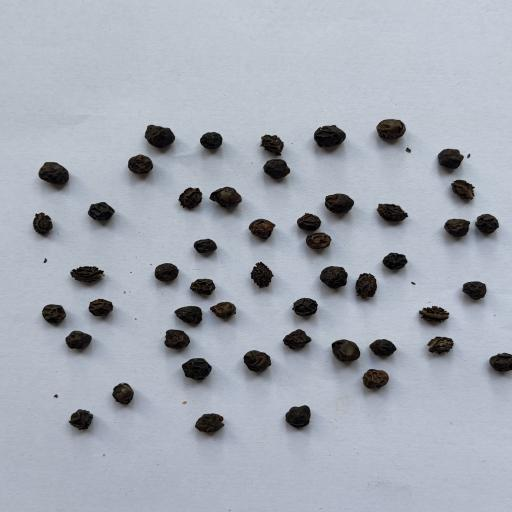Black_pepper: (235, 346, 276, 384), (32, 158, 82, 188), (122, 150, 169, 180), (275, 402, 319, 429), (140, 122, 185, 148), (179, 356, 218, 385), (311, 122, 351, 150), (188, 410, 232, 435), (203, 297, 242, 325), (330, 334, 366, 364), (63, 406, 100, 435), (206, 182, 244, 210), (375, 113, 411, 142), (321, 190, 358, 218), (484, 344, 512, 379), (142, 258, 182, 282), (315, 261, 349, 289), (34, 301, 72, 326), (84, 197, 120, 223), (248, 214, 281, 242), (196, 126, 230, 153), (292, 291, 320, 322), (280, 323, 312, 350), (366, 332, 402, 356), (159, 326, 196, 349), (473, 208, 504, 235), (64, 328, 98, 352), (258, 156, 294, 178), (174, 301, 204, 327), (436, 146, 466, 172), (110, 380, 138, 407), (374, 249, 410, 270), (361, 367, 395, 389), (441, 217, 474, 239), (458, 280, 491, 302), (290, 212, 326, 232), (84, 296, 118, 317), (303, 232, 332, 254), (189, 236, 219, 256), (190, 276, 217, 296)
papaya_seed: (238, 254, 290, 294), (441, 176, 500, 204), (420, 330, 460, 365), (376, 200, 416, 230), (27, 211, 67, 238), (65, 263, 109, 284), (409, 303, 451, 325), (353, 268, 380, 302), (254, 132, 288, 155), (174, 184, 204, 210)
